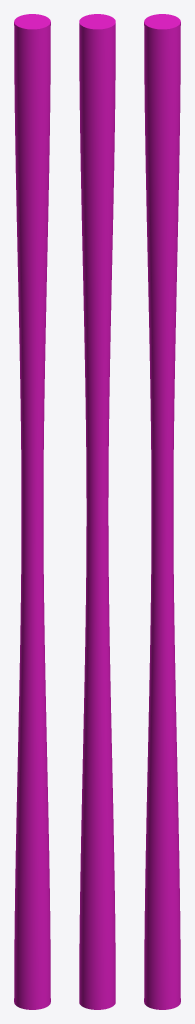
3 renders of one model, left to right at view 1: azimuth 90°, elevation 25°; view 2: azimuth 150°, elevation 25°; view 3: azimuth 270°, elevation 25°, orthographic.
Parts seen in each view (by area): view 1: rail_tracks; view 2: rail_tracks; view 3: rail_tracks.
Part boxes in pixels (x1,y1,x2,y2): rail_tracks: (14,14,50,1009); rail_tracks: (79,14,115,1009); rail_tracks: (144,14,180,1009).
Size of the model in its own units: 1 by 29.5 by 1.
